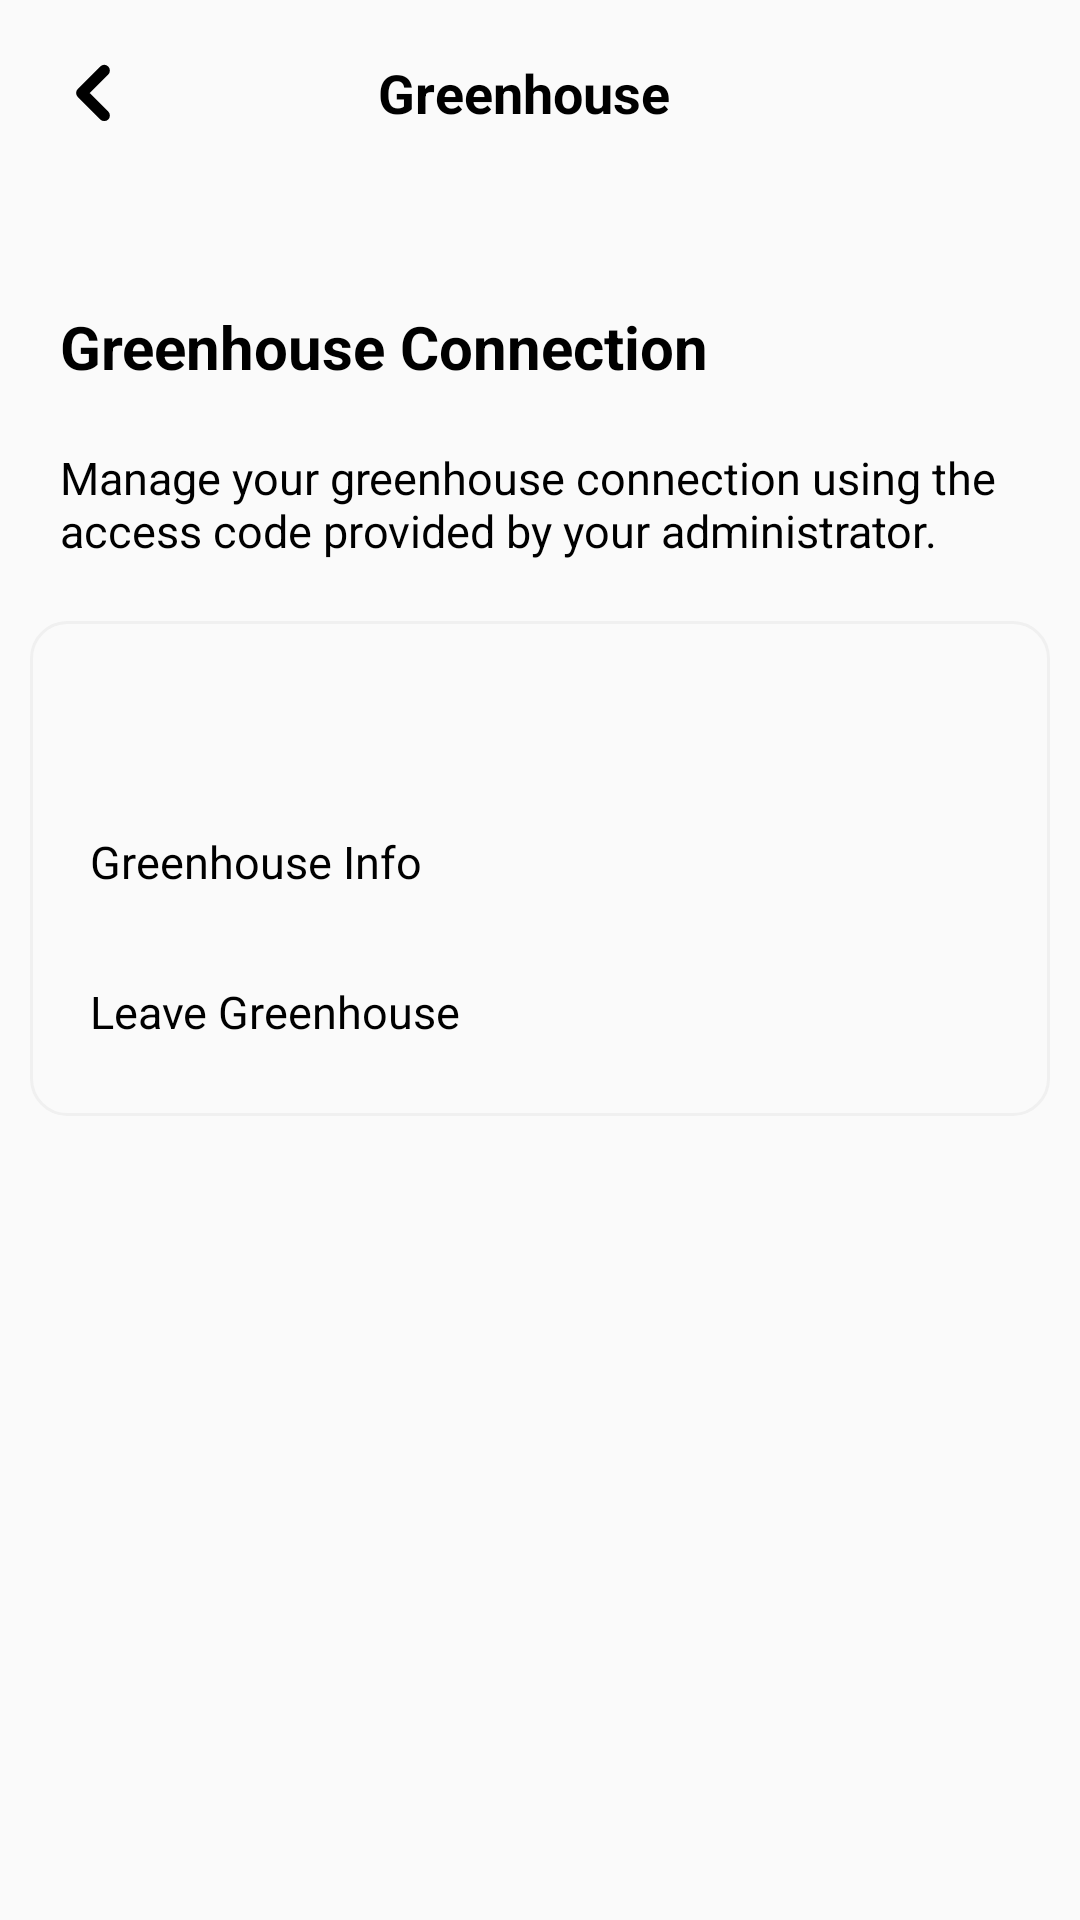

Icons on this 1080 x 1920 Android screen, each with the point to tap as [x,y]:
Back: [93,92]
